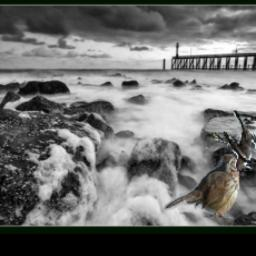Sparrow: (166, 154, 240, 219)
Woodpecker: (211, 108, 256, 171)
